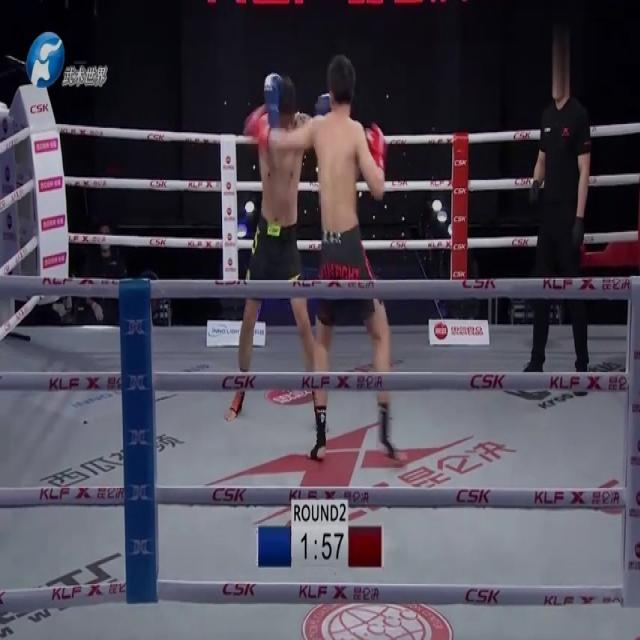fight: (228, 49, 408, 470)
non-fight: (520, 61, 595, 378)
